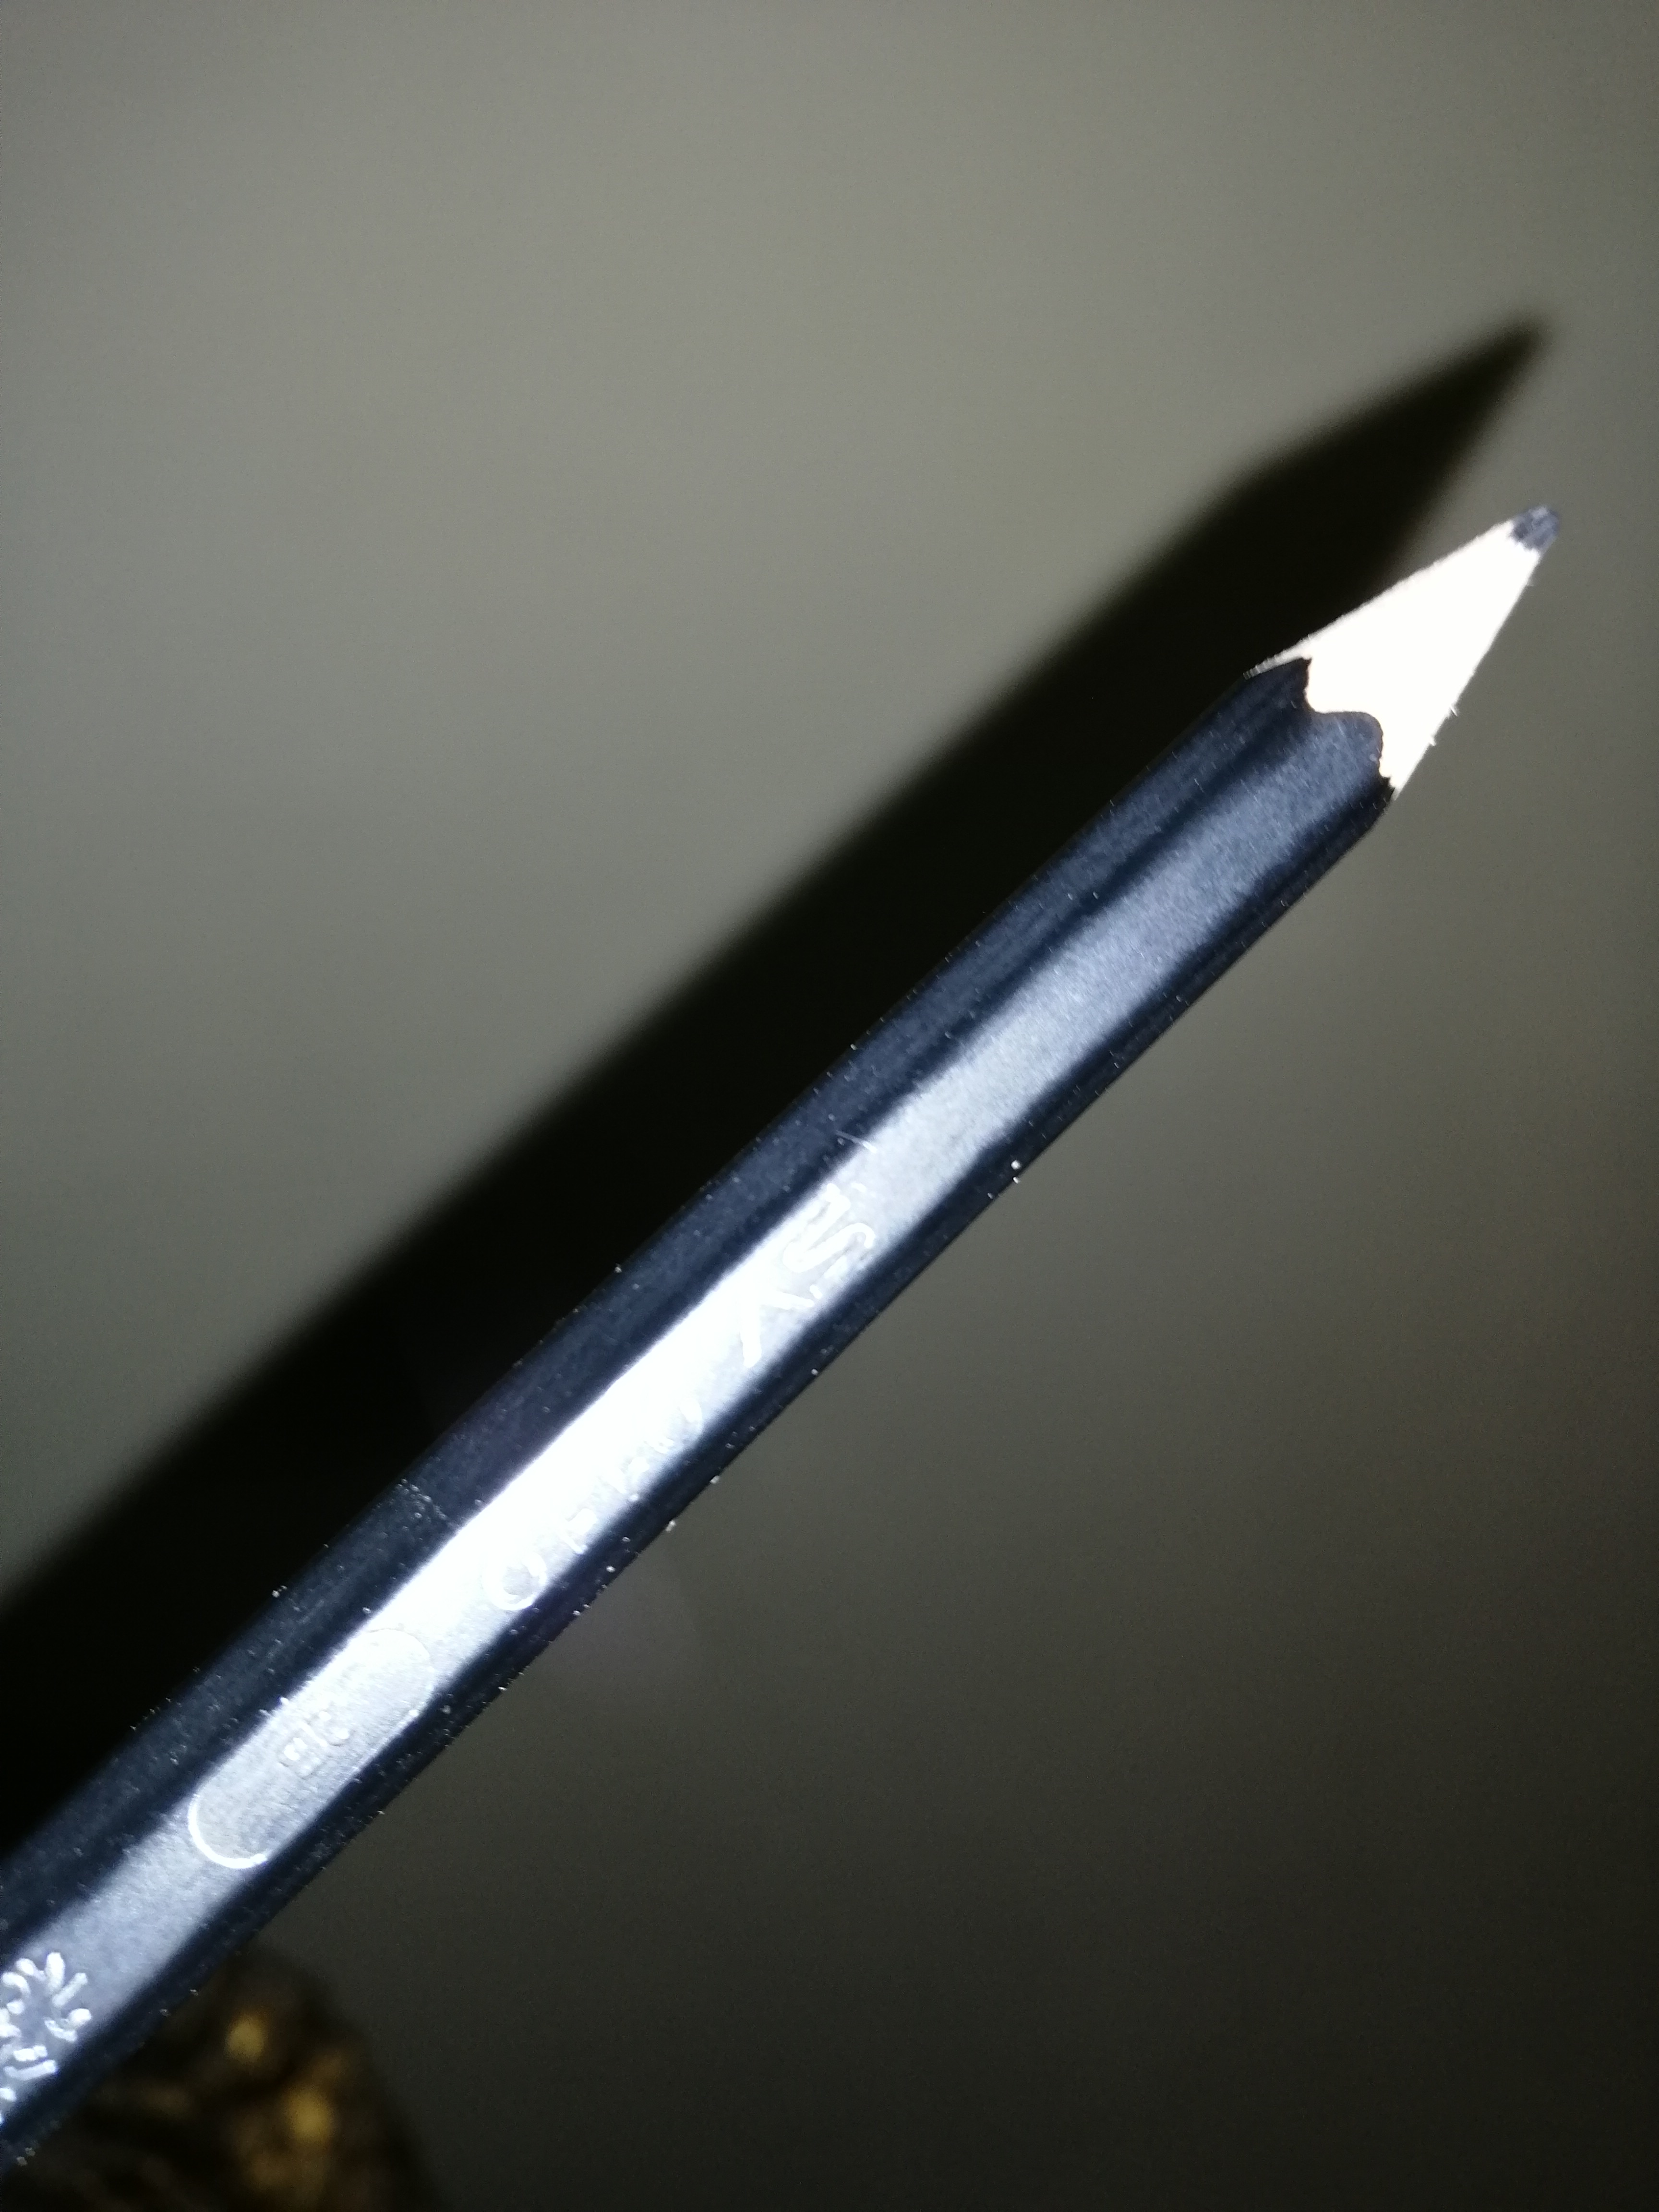pen_tip: (1154, 430, 1615, 862)
